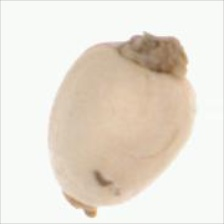L3: (60, 187, 106, 217)
L4: (48, 35, 196, 216)
